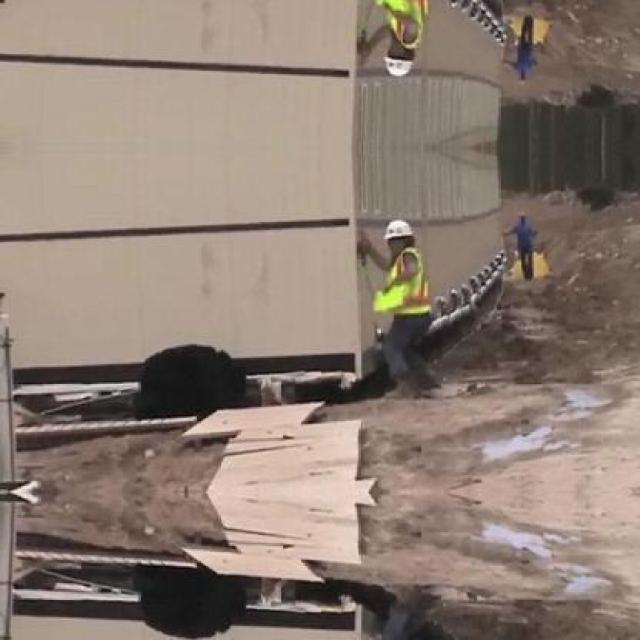hat: (382, 213, 419, 244)
